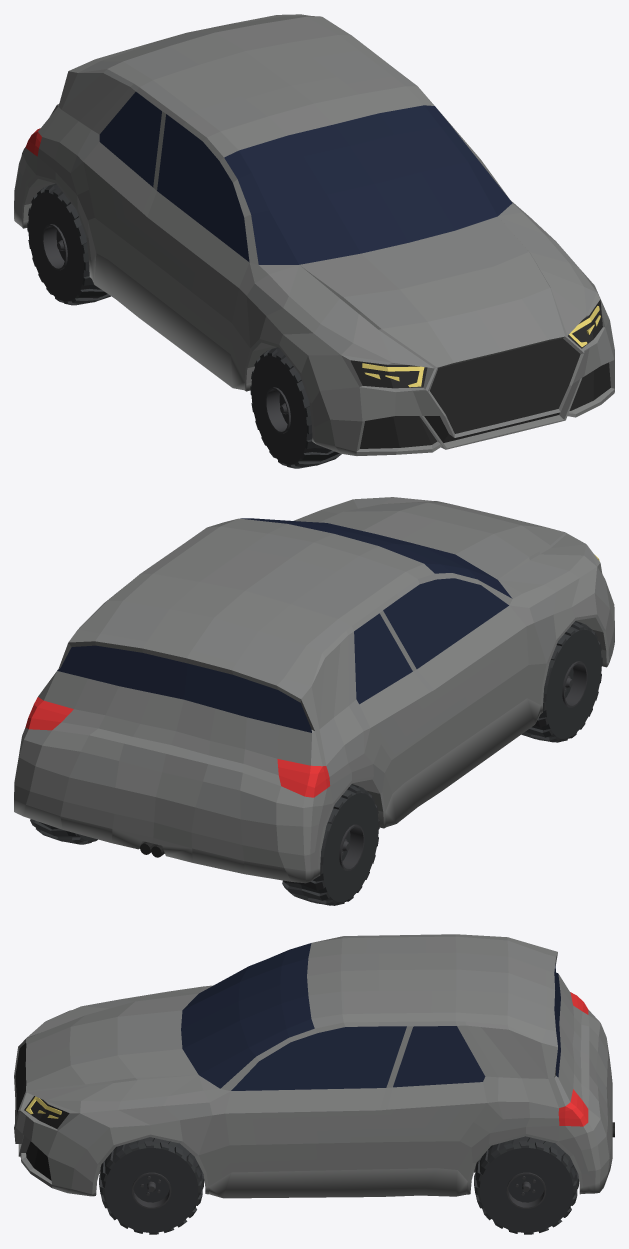
File: audi-a4-low-poly.fbx
3 renders of one model, top to bottom at view 1: azimuth 30°, elevation 25°; view 2: azimuth 150°, elevation 25°; view 3: azimuth 270°, elevation 25°, orthographic. The views are drawn at different scales.
Visible parts, largest first — view 1: Body, Windows, Shaded body, Front_wheel.004, Front_wheel.003, Front lights; view 2: Body, Windows, Front_wheel.003, Front_wheel.004, Rear lights cage, Front_wheel.002; view 3: Body, Windows, Front_wheel.002, Front_wheel.001, Shaded body, Rear lights cage.
Part boxes in pixels (box(x1,y1,x2,y2)): Body: box(14, 14, 614, 455); Windows: box(99, 92, 512, 264); Shaded body: box(350, 299, 610, 448); Front_wheel.004: box(250, 347, 341, 468); Front_wheel.003: box(27, 183, 110, 305); Front lights: box(362, 306, 600, 387); Body: box(14, 497, 614, 883); Windows: box(57, 518, 512, 732); Front_wheel.003: box(282, 784, 379, 905); Front_wheel.004: box(521, 621, 602, 742); Rear lights cage: box(25, 697, 330, 797); Front_wheel.002: box(30, 819, 97, 844); Body: box(14, 934, 612, 1198); Windows: box(181, 943, 560, 1090); Front_wheel.002: box(474, 1136, 578, 1234); Front_wheel.001: box(99, 1137, 204, 1234); Shaded body: box(15, 1043, 69, 1180); Rear lights cage: box(558, 992, 588, 1126).
Bounding box in the file's own units: 815 × 637 × 1671.
